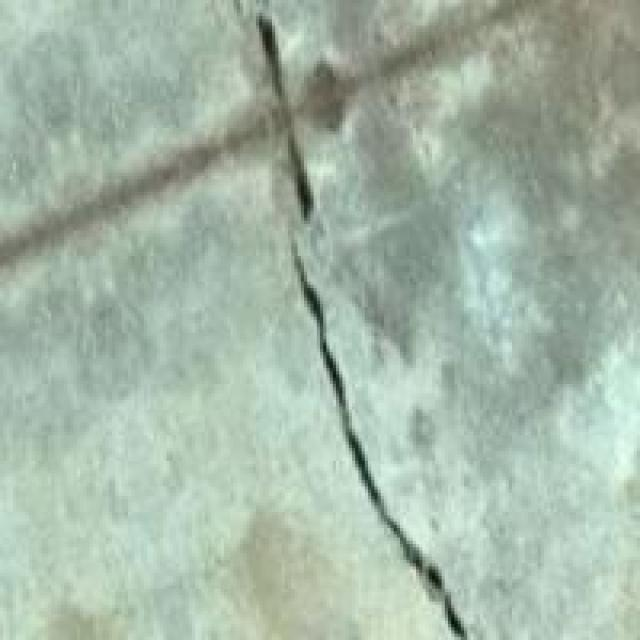Crack: (203, 19, 488, 637)
